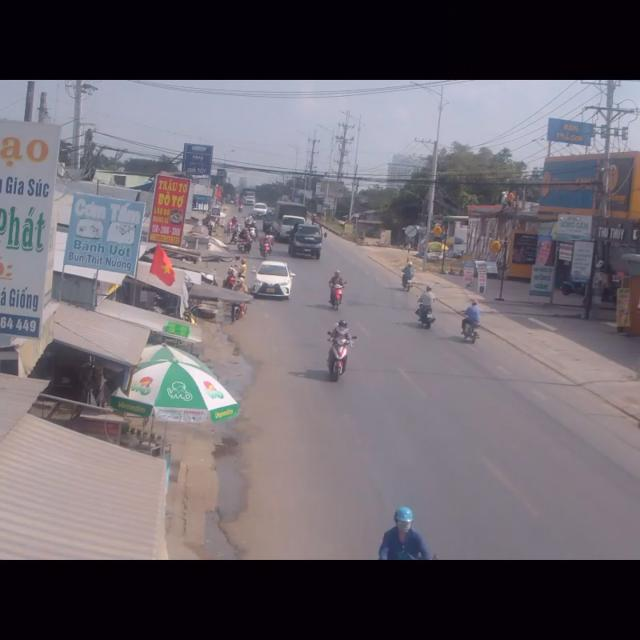car: (254, 260, 295, 304)
motorbike: (326, 316, 353, 386), (459, 298, 479, 349), (416, 284, 436, 331), (327, 266, 344, 310), (402, 261, 416, 296)
